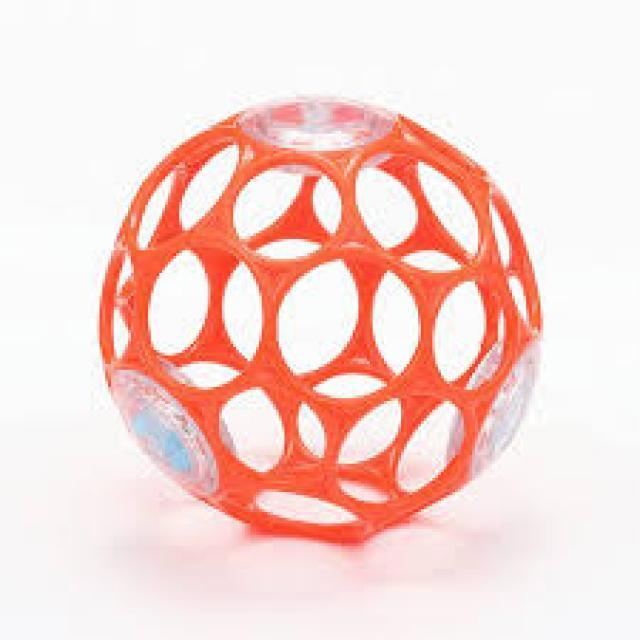hard-toy: (101, 99, 542, 542)
